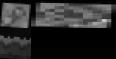ebony: (0, 0, 31, 28)
stone: (31, 0, 116, 28)
